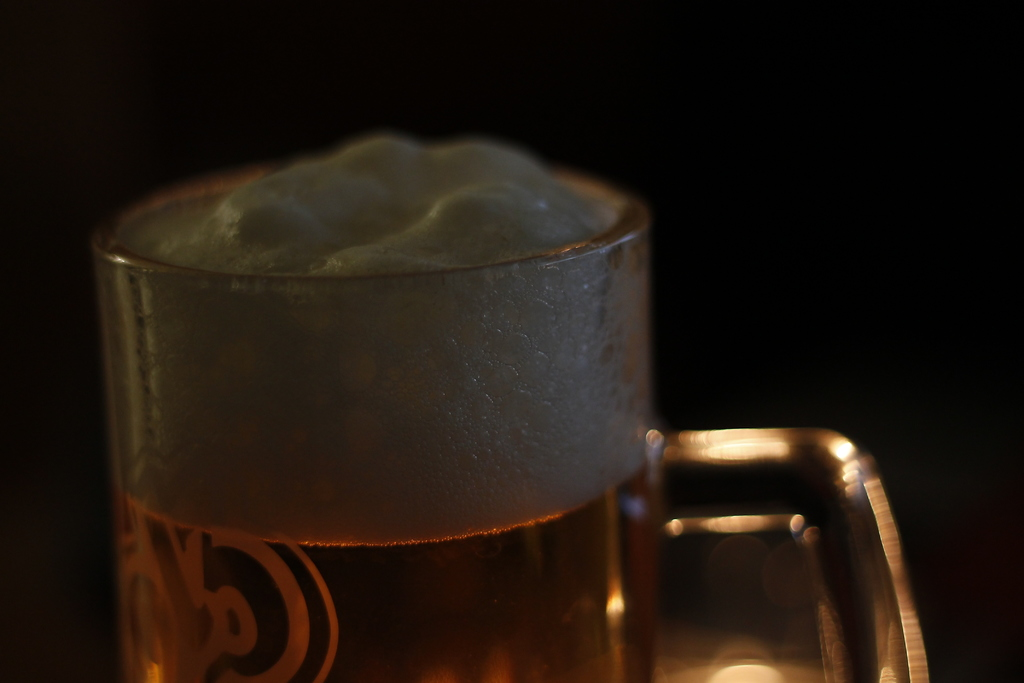Beer: (85, 151, 672, 683)
